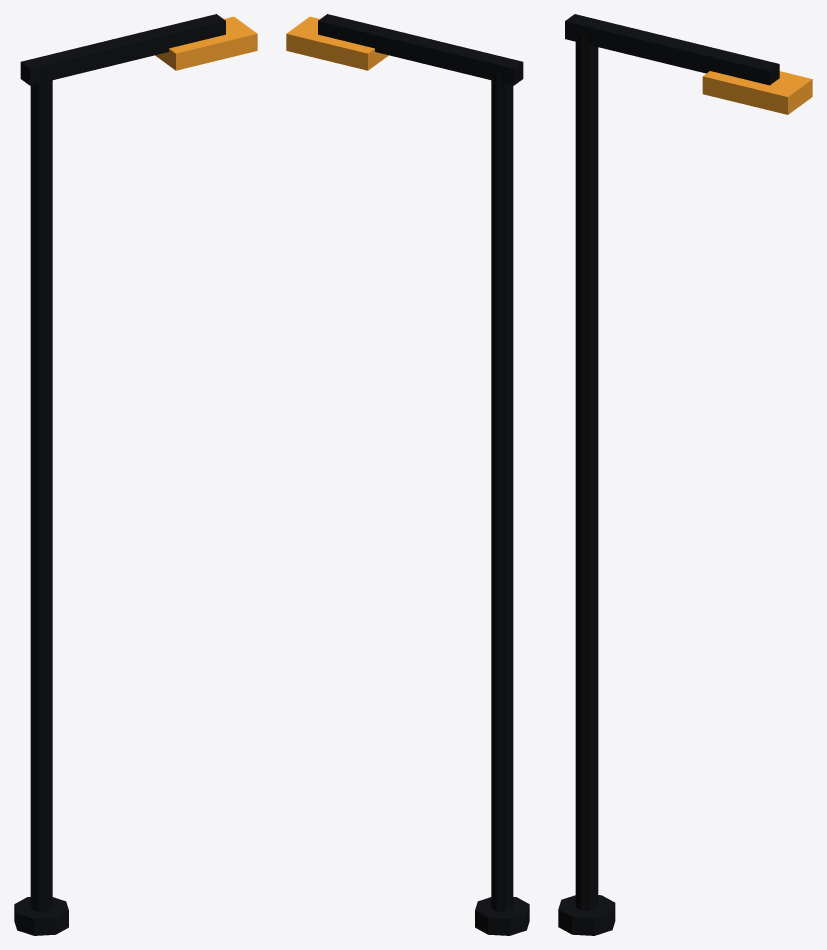
The model's file is street_lamp.obj.
3 views of the same model, side by side, from view 1: azimuth 30°, elevation 25°; view 2: azimuth 150°, elevation 25°; view 3: azimuth 330°, elevation 25° (orthographic). The views are drawn at different scales.
Visible parts, largest first — view 1: street_lamp; view 2: street_lamp; view 3: street_lamp.
Part boxes in pixels (bbox=[...]): street_lamp: bbox=[14, 14, 257, 935]; street_lamp: bbox=[286, 14, 529, 935]; street_lamp: bbox=[558, 14, 812, 935].
Size of the model in its own units: 1.4 by 5.05 by 0.3.
